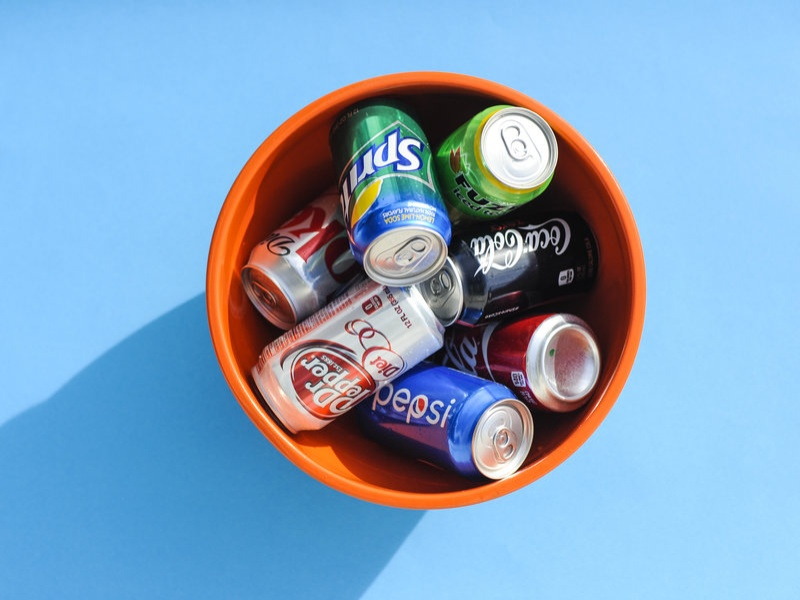Can: (242, 265, 463, 449), (297, 88, 465, 299), (359, 350, 530, 507), (429, 288, 610, 425), (240, 170, 391, 315), (418, 88, 552, 220)
